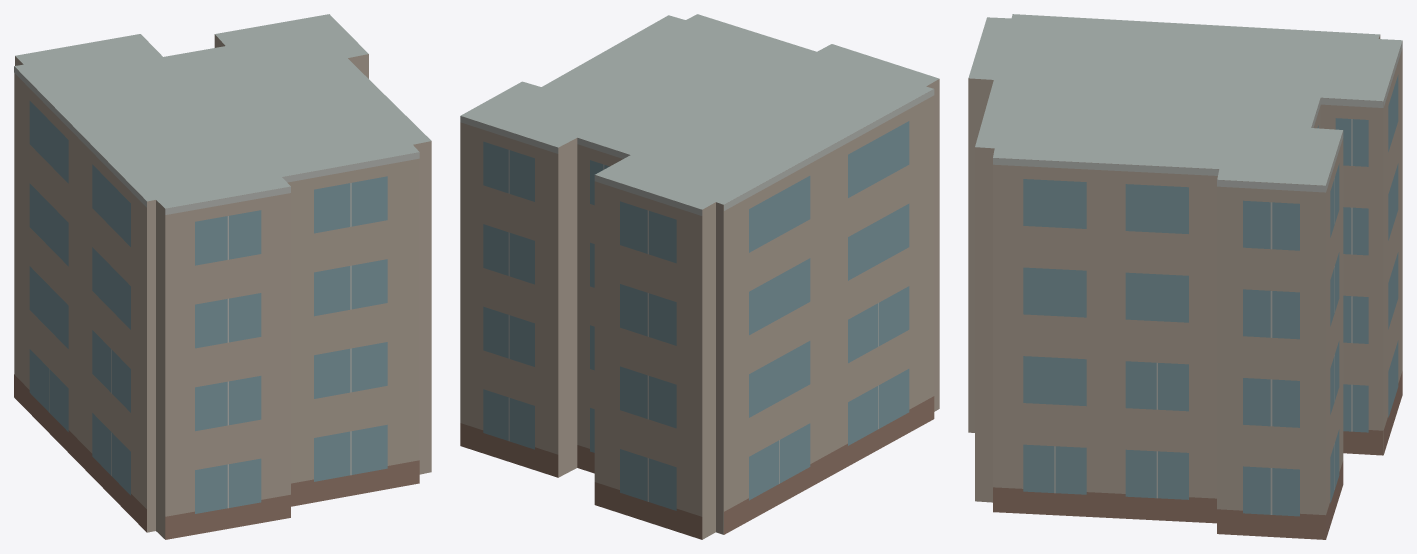
The model's file is survey-upis-32973828.glb.
3 renders of one model, left to right at view 1: azimuth 30°, elevation 25°; view 2: azimuth 150°, elevation 25°; view 3: azimuth 270°, elevation 25°, orthographic. The views are drawn at different scales.
Visible parts, largest first — view 1: survey-upis-32973828.tmp; view 2: survey-upis-32973828.tmp; view 3: survey-upis-32973828.tmp.
Part boxes in pixels (x1,y1,x2,y2): survey-upis-32973828.tmp: (14,14,431,539); survey-upis-32973828.tmp: (460,14,939,539); survey-upis-32973828.tmp: (968,14,1402,539).
Bounding box in the file's own units: 12.99 × 12.49 × 13.89.
